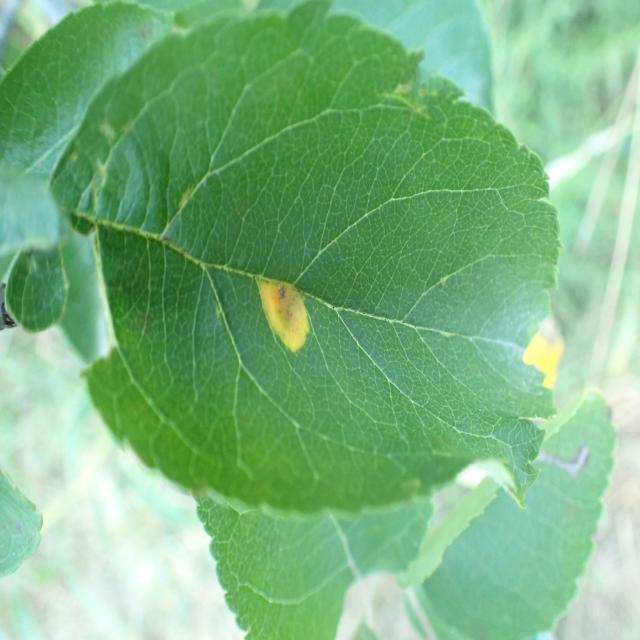Rust: (252, 268, 316, 368), (519, 308, 575, 411)
